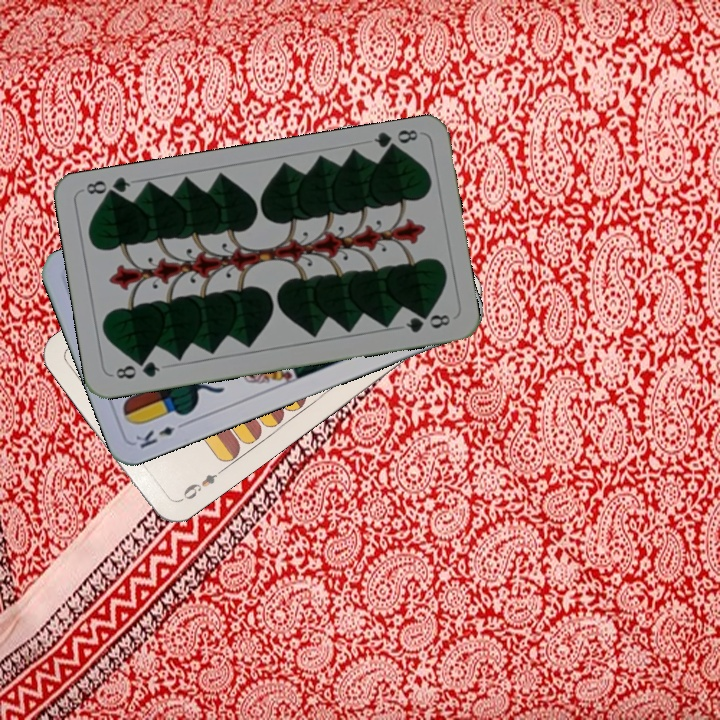E9: (174, 465, 226, 505)
EK: (131, 417, 190, 451)
G8: (370, 125, 420, 157), (111, 356, 163, 382)
